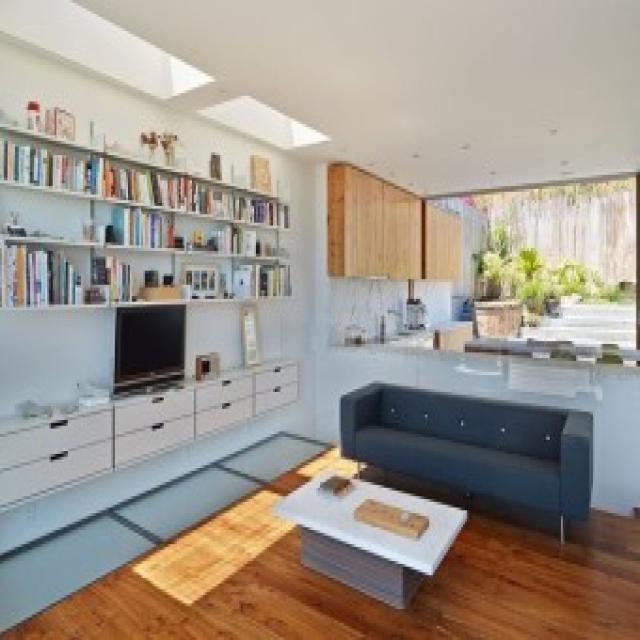Sofa: (341, 370, 597, 536)
Table: (274, 466, 468, 604)
tv: (115, 307, 186, 392)
